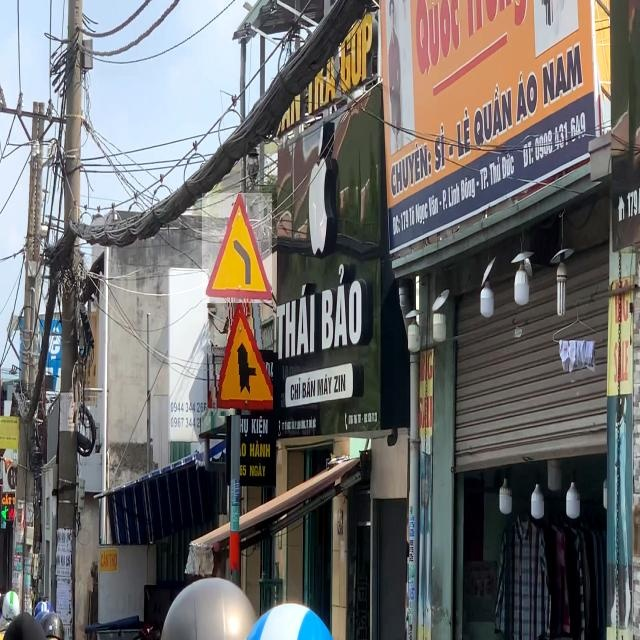bien_nguy_hiem: (203, 302, 273, 416), (202, 193, 272, 303)
